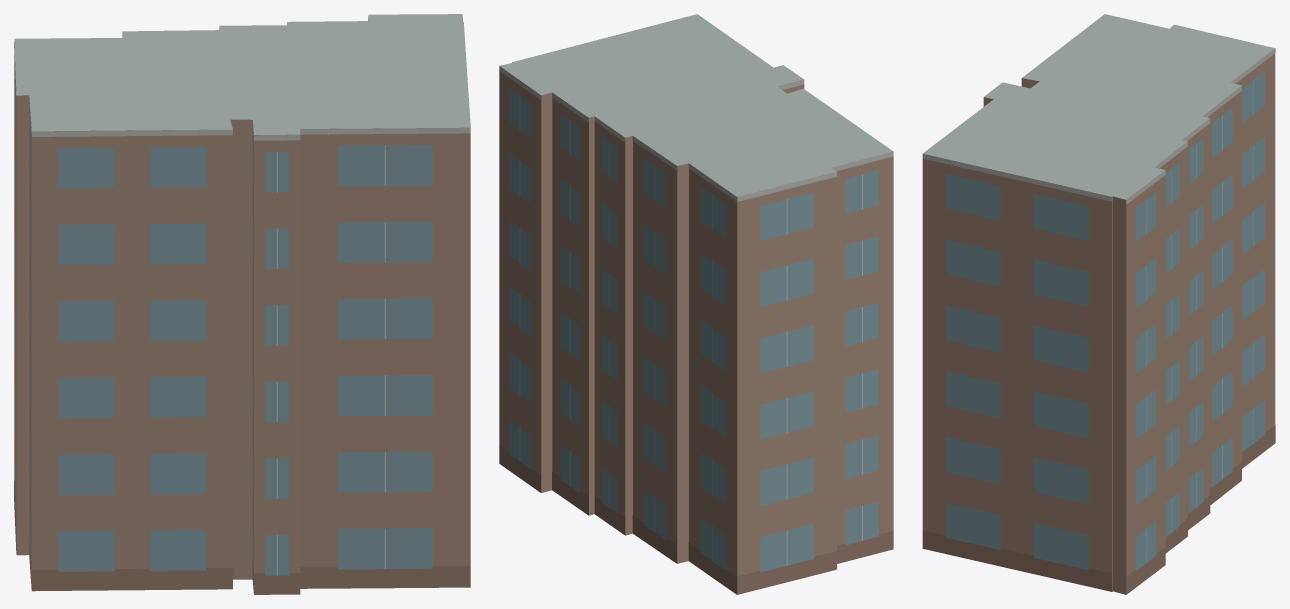
File: survey-upis-32772544.glb
3 renders of one model, left to right at view 1: azimuth 30°, elevation 25°; view 2: azimuth 150°, elevation 25°; view 3: azimuth 270°, elevation 25°, orthographic. The views are drawn at different scales.
Parts seen in each view (by area): view 1: survey-upis-32772544.tmp; view 2: survey-upis-32772544.tmp; view 3: survey-upis-32772544.tmp.
Boxes of the visible parts, x1,y1,x2,y2 form: survey-upis-32772544.tmp: (14,14,470,594); survey-upis-32772544.tmp: (499,14,893,594); survey-upis-32772544.tmp: (922,14,1275,594).
Bounding box in the file's own units: 19.89 × 19.7 × 15.96.
